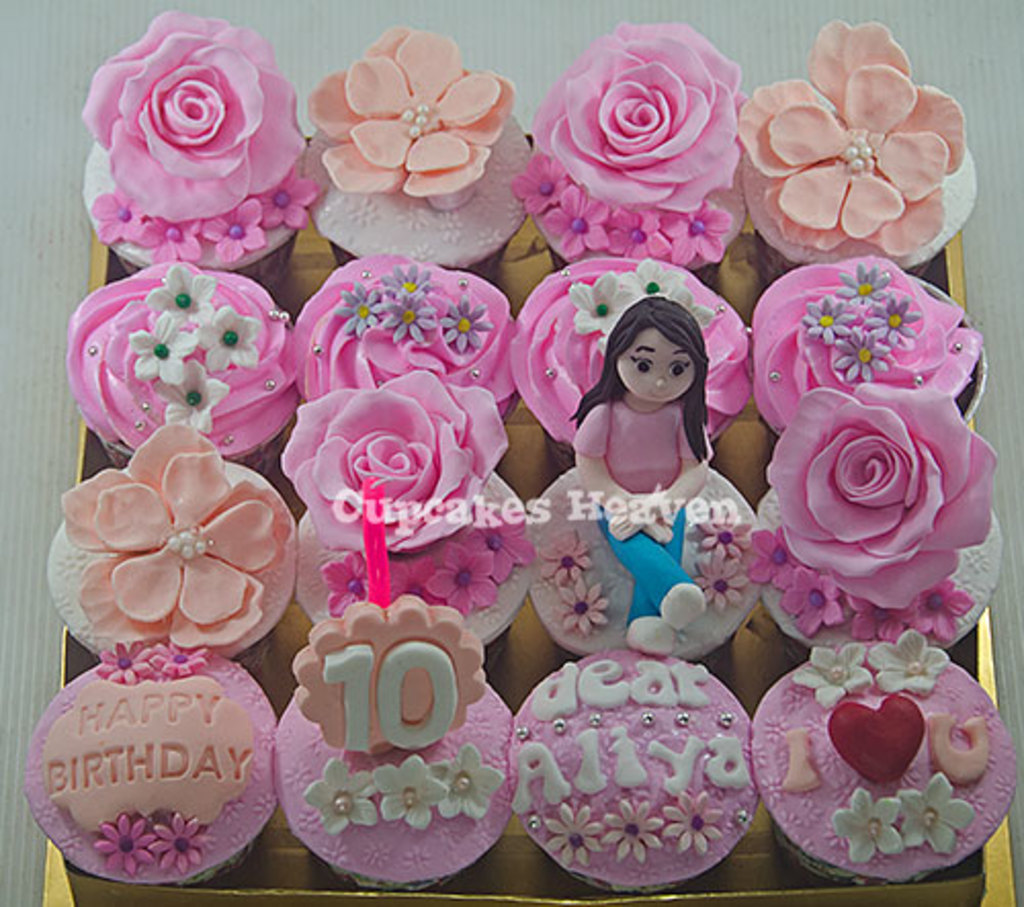cake: (33, 655, 285, 891)
